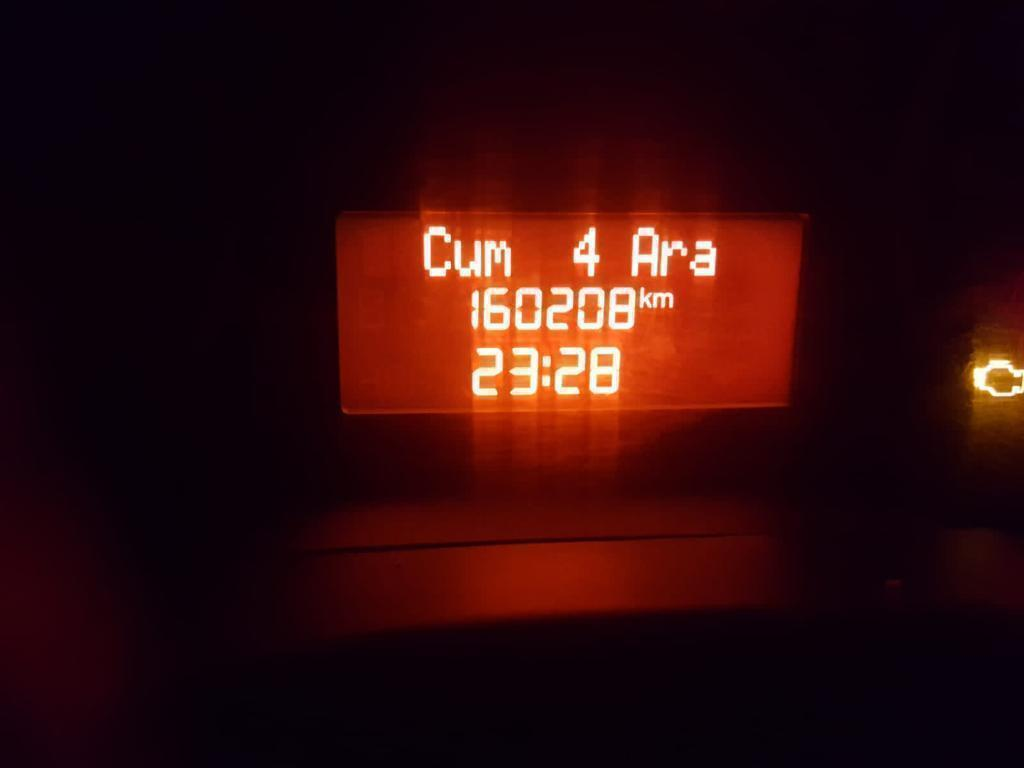0: (513, 285, 544, 332), (576, 284, 605, 331)
1: (463, 286, 482, 330)
2: (469, 344, 505, 398), (554, 344, 585, 397), (543, 285, 575, 332)
3: (508, 344, 540, 398)
4: (569, 223, 604, 279)
6: (481, 284, 510, 332)
8: (587, 344, 621, 396), (607, 285, 636, 332)
X: (420, 222, 451, 279), (630, 224, 658, 279), (453, 236, 482, 279), (483, 237, 512, 279), (688, 238, 717, 279), (660, 237, 687, 278), (539, 352, 553, 389), (653, 290, 675, 309), (637, 283, 652, 310)
odometer: (327, 207, 811, 423)
